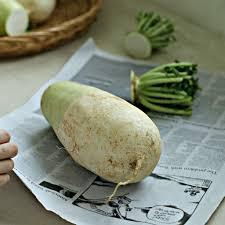radish: (14, 28, 58, 66)
